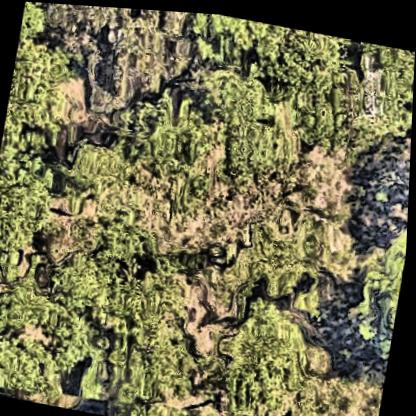tree-top: (67, 253, 209, 416), (254, 22, 362, 155), (189, 63, 303, 187), (211, 292, 320, 416), (118, 88, 216, 185), (3, 31, 74, 154), (0, 147, 61, 287), (235, 210, 321, 307), (102, 6, 185, 106), (349, 211, 409, 348), (165, 9, 290, 71), (348, 35, 415, 148), (61, 132, 141, 205), (88, 201, 161, 271), (0, 329, 67, 401), (0, 272, 65, 341), (39, 2, 116, 50), (18, 1, 55, 44), (285, 413, 355, 416)
